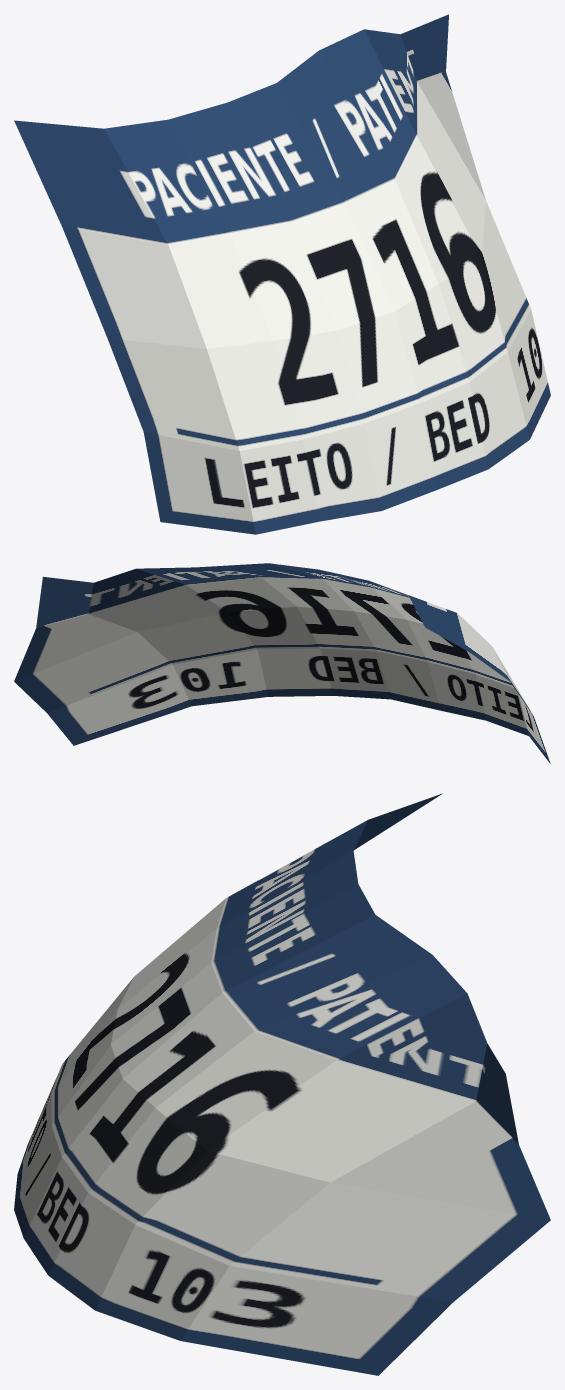
The model's file is SM_Helena_PatientAccessories.fbx.
The picture shows the model from 3 angles, top to bottom: view 1: azimuth 30°, elevation 25°; view 2: azimuth 150°, elevation 25°; view 3: azimuth 270°, elevation 25°; orthographic projection. The views are drawn at different scales.
Visible parts, largest first — view 1: PatientTag; view 2: PatientTag; view 3: PatientTag.
Boxes of the visible parts, bbox=[...] form: PatientTag: bbox=[14, 14, 550, 534]; PatientTag: bbox=[14, 563, 550, 763]; PatientTag: bbox=[14, 793, 550, 1375].
Bounding box in the file's own units: 0.118 × 0.068 × 0.1012.
1 material, 1 textured.
